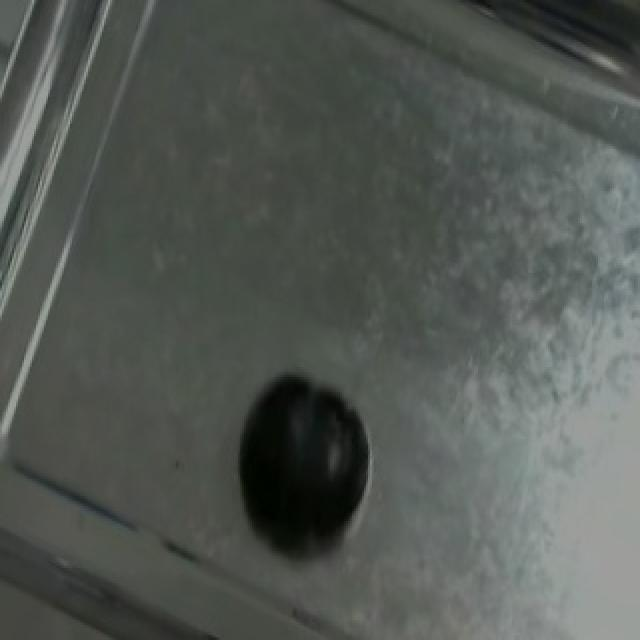Fruit: (222, 370, 380, 558)
